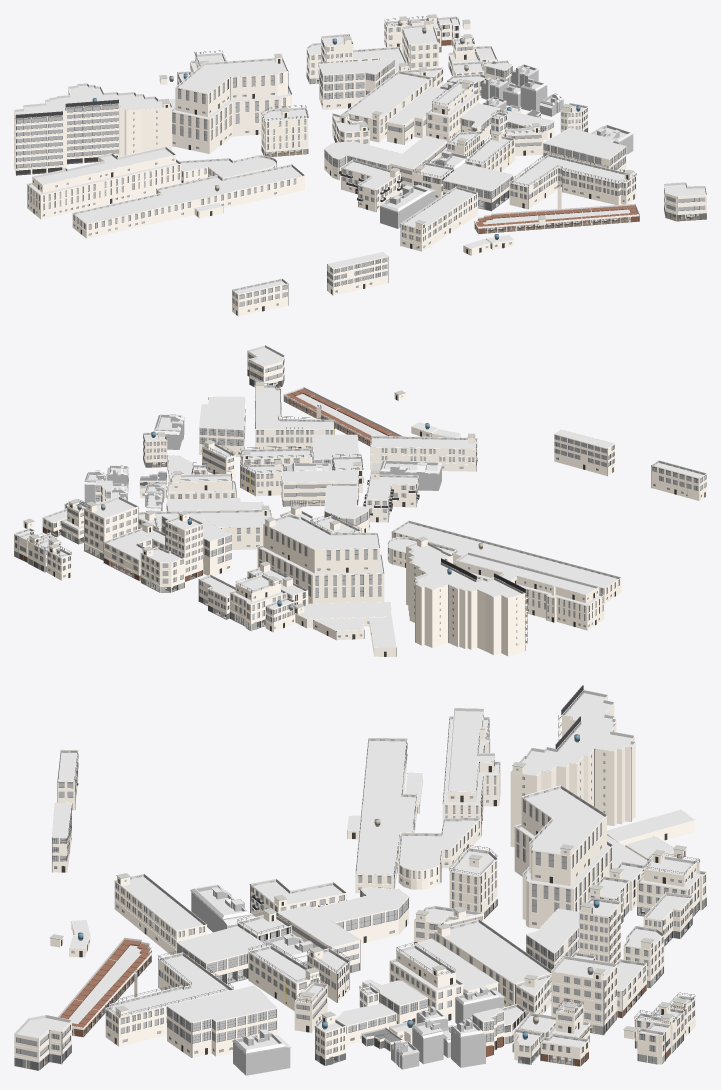
The picture shows the model from 3 angles, top to bottom: view 1: azimuth 30°, elevation 25°; view 2: azimuth 150°, elevation 25°; view 3: azimuth 270°, elevation 25°; orthographic projection. The views are drawn at different scales.
Parts seen in each view (by area): view 1: 서울특별시 성동구 성수동2가 837, 서울특별시 성동구 성수동2가 269-62, 서울특별시 성동구 성수동2가 268.016, 서울특별시 성동구 성수동2가 268.015, 서울특별시 성동구 성수동2가 269-9.002, 서울특별시 성동구 성수동2가 269-9.001, 서울특별시 성동구 성수동2가 268-5, 서울특별시 성동구 성수동2가 269-63.002, 서울특별시 성동구 성수동2가 269-63, 서울특별시 성동구 성수동2가 258-1, 서울특별시 성동구 성수동2가 269-223, 서울특별시 성동구 성수동2가 268-2 (+27 smaller); view 2: 서울특별시 성동구 성수동2가 837, 서울특별시 성동구 성수동2가 269-62, 서울특별시 성동구 성수동2가 268.015, 서울특별시 성동구 성수동2가 268.016, 서울특별시 성동구 성수동2가 268-5, 서울특별시 성동구 성수동2가 269-9.002, 서울특별시 성동구 성수동2가 258-1, 서울특별시 성동구 성수동2가 269-9.001, 서울특별시 성동구 성수동2가 272-11, 서울특별시 성동구 성수동2가 269-16, 서울특별시 성동구 성수동2가 269-63, 서울특별시 성동구 성수동2가 268.002 (+27 smaller); view 3: 서울특별시 성동구 성수동2가 837, 서울특별시 성동구 성수동2가 269-62, 서울특별시 성동구 성수동2가 268.016, 서울특별시 성동구 성수동2가 258-1, 서울특별시 성동구 성수동2가 268.015, 서울특별시 성동구 성수동2가 269-9.002, 서울특별시 성동구 성수동2가 269-63, 서울특별시 성동구 성수동2가 268-5, 서울특별시 성동구 성수동2가 269-9.001, 서울특별시 성동구 성수동2가 268.013, 서울특별시 성동구 성수동2가 272-11, 서울특별시 성동구 성수동2가 269-195 (+43 smaller).
Part boxes in pixels (x1,y1,x2,y2): 서울특별시 성동구 성수동2가 837: (14, 83, 172, 175); 서울특별시 성동구 성수동2가 269-62: (172, 57, 291, 153); 서울특별시 성동구 성수동2가 268.016: (72, 164, 304, 238); 서울특별시 성동구 성수동2가 268.015: (27, 146, 181, 219); 서울특별시 성동구 성수동2가 269-9.002: (509, 152, 636, 209); 서울특별시 성동구 성수동2가 269-9.001: (474, 203, 639, 234); 서울특별시 성동구 성수동2가 268-5: (400, 186, 477, 251); 서울특별시 성동구 성수동2가 269-63.002: (319, 59, 394, 109); 서울특별시 성동구 성수동2가 269-63: (344, 71, 431, 142); 서울특별시 성동구 성수동2가 258-1: (543, 127, 626, 172); 서울특별시 성동구 성수동2가 269-223: (261, 105, 308, 157); 서울특별시 성동구 성수동2가 268-2: (339, 159, 402, 212); 서울특별시 성동구 성수동2가 837: (406, 542, 527, 656); 서울특별시 성동구 성수동2가 269-62: (257, 514, 384, 603); 서울특별시 성동구 성수동2가 268.015: (456, 552, 604, 630); 서울특별시 성동구 성수동2가 268.016: (391, 520, 621, 603); 서울특별시 성동구 성수동2가 268-5: (369, 435, 477, 471); 서울특별시 성동구 성수동2가 269-9.002: (254, 383, 334, 451); 서울특별시 성동구 성수동2가 258-1: (198, 396, 245, 456); 서울특별시 성동구 성수동2가 269-9.001: (283, 387, 402, 446); 서울특별시 성동구 성수동2가 272-11: (84, 496, 138, 560); 서울특별시 성동구 성수동2가 269-16: (281, 469, 358, 506); 서울특별시 성동구 성수동2가 269-63: (155, 509, 271, 549); 서울특별시 성동구 성수동2가 268.002: (554, 429, 614, 475); 서울특별시 성동구 성수동2가 837: (510, 685, 635, 847); 서울특별시 성동구 성수동2가 269-62: (514, 785, 612, 928); 서울특별시 성동구 성수동2가 268.016: (355, 737, 416, 893); 서울특별시 성동구 성수동2가 258-1: (167, 985, 277, 1057); 서울특별시 성동구 성수동2가 268.015: (442, 708, 500, 835); 서울특별시 성동구 성수동2가 269-9.002: (105, 949, 233, 1046); 서울특별시 성동구 성수동2가 269-63: (434, 919, 551, 1006); 서울특별시 성동구 성수동2가 268-5: (114, 873, 207, 954); 서울특별시 성동구 성수동2가 269-9.001: (57, 937, 151, 1037); 서울특별시 성동구 성수동2가 268.013: (398, 817, 481, 889); 서울특별시 성동구 성수동2가 272-11: (551, 955, 617, 1035); 서울특별시 성동구 성수동2가 269-195: (313, 887, 409, 943).
Bounding box in the file's own units: 239 × 27.62 × 214.
